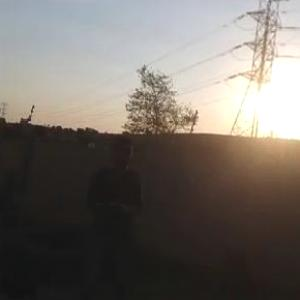follow: (80, 128, 152, 299)
